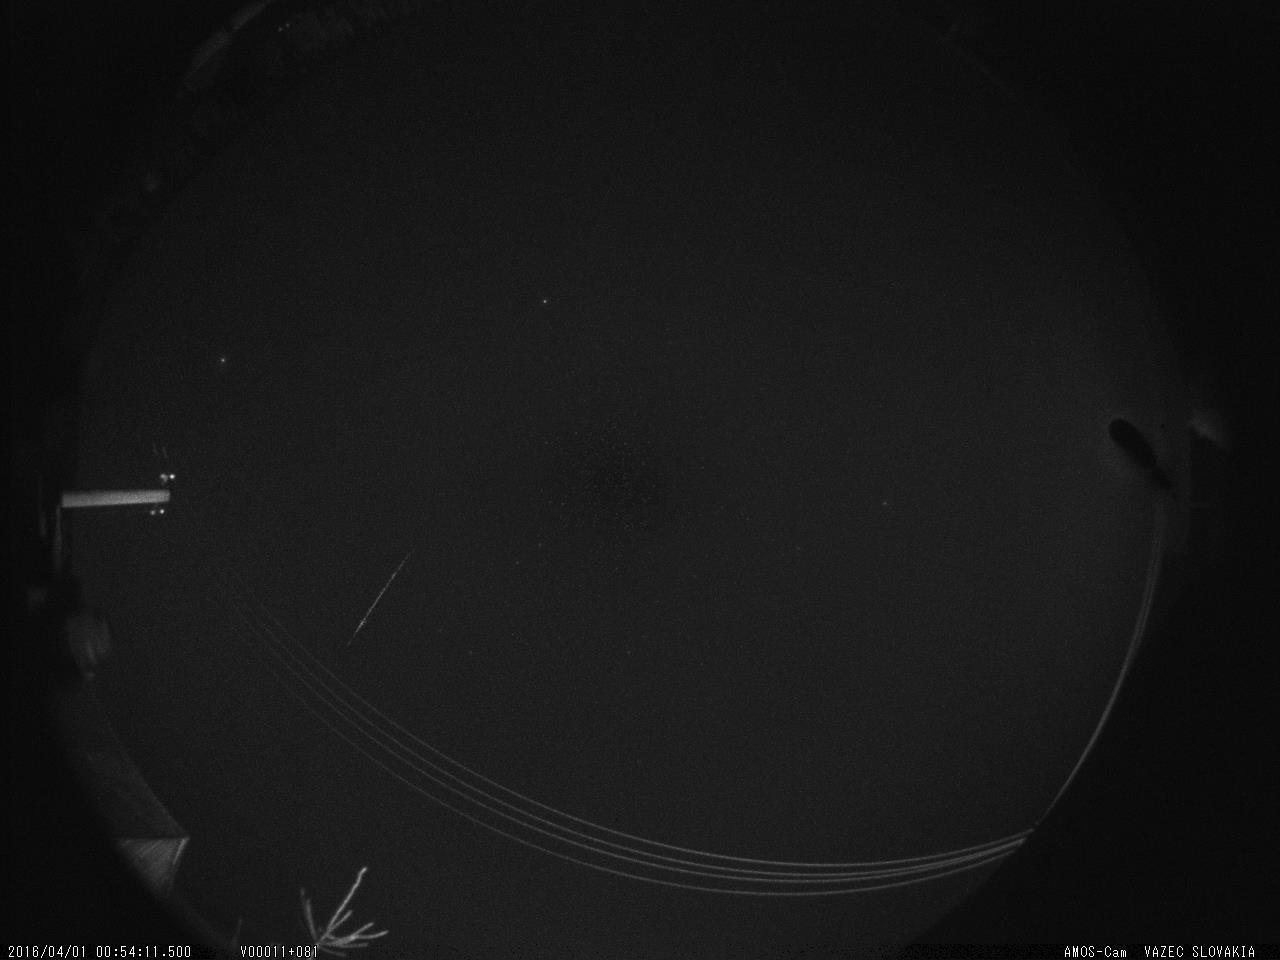Meteor: (339, 539, 422, 661)
